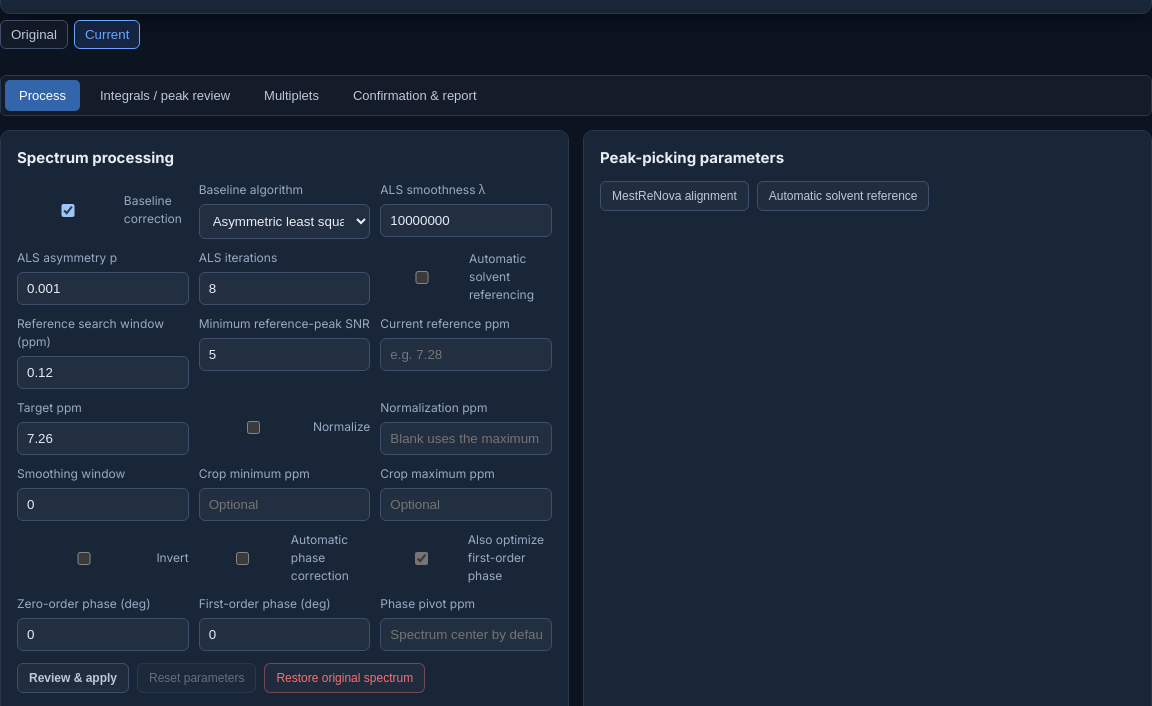
Scenario: NMR processing payload numbers › keeps processing edits dirty when preview application is rejected
(page scrolled)
Replace the text in the number field labelled "Zero-order phase (deg)" with "4.0" at (103, 634), box [17, 618, 189, 651]
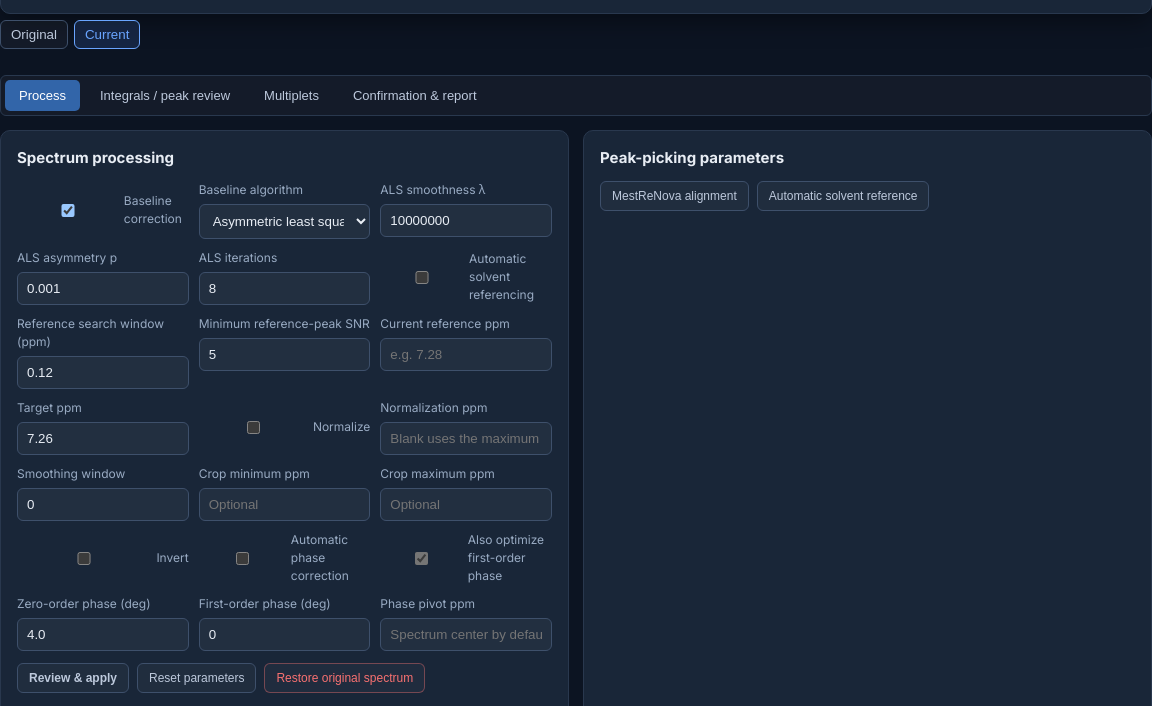
Click the button "Review & apply" at (73, 678), box [17, 663, 129, 693]
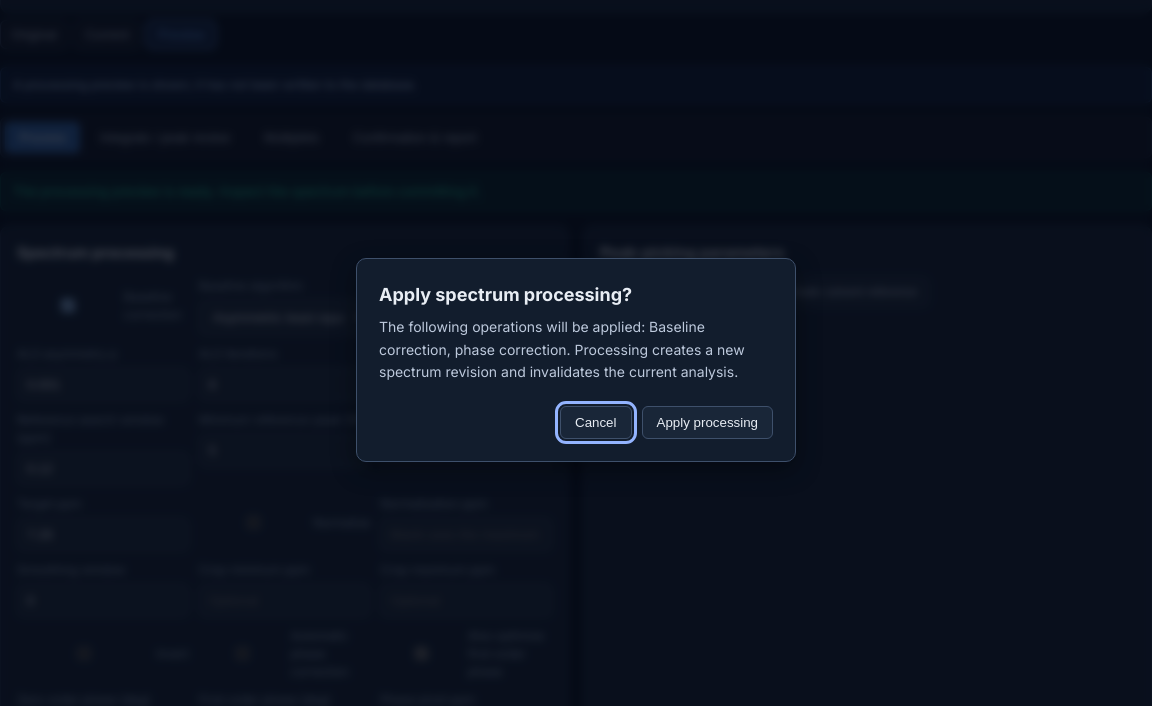
Click the button "Apply processing" at (707, 422), box [642, 406, 773, 439]
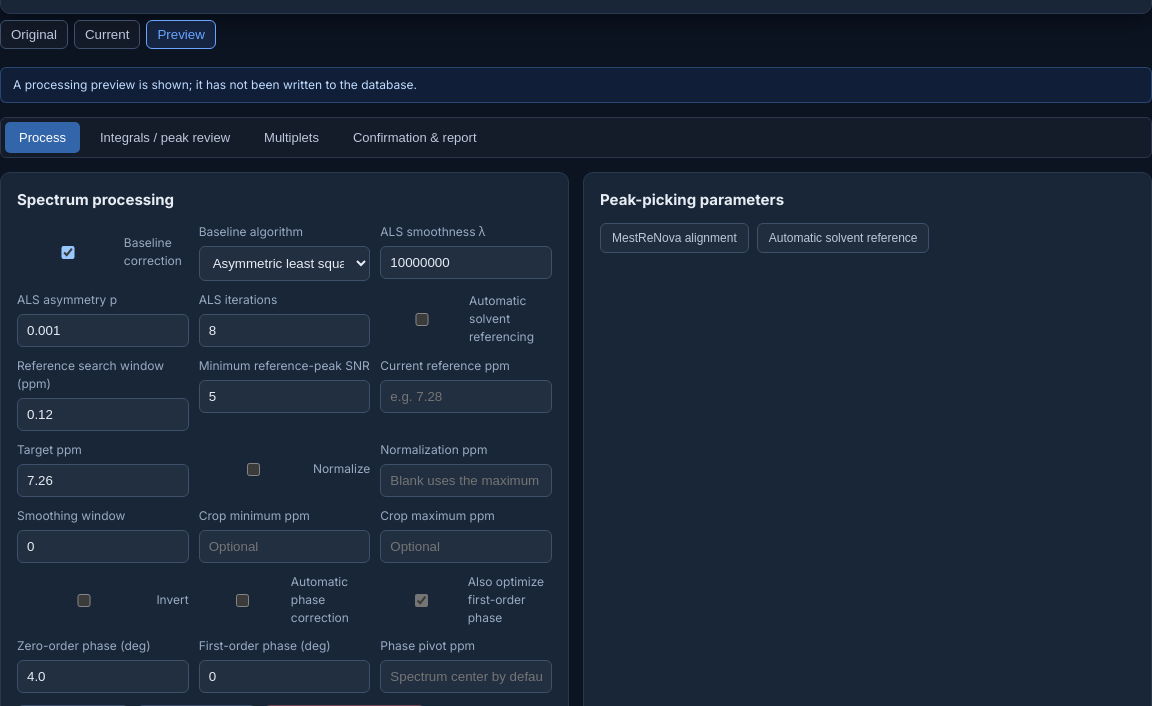
Click the tab "Integrals / peak review" at (165, 137), box [86, 122, 244, 152]
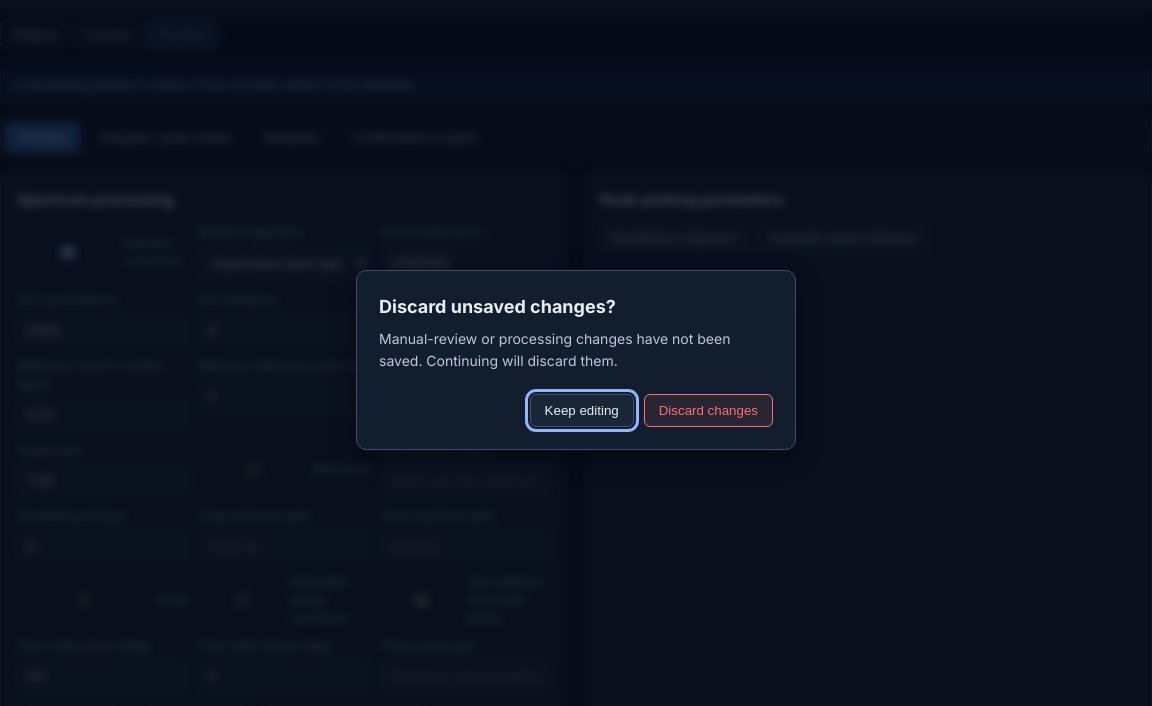
Expected: the dialog shows "Discard unsaved changes?", [379, 296, 616, 317]
